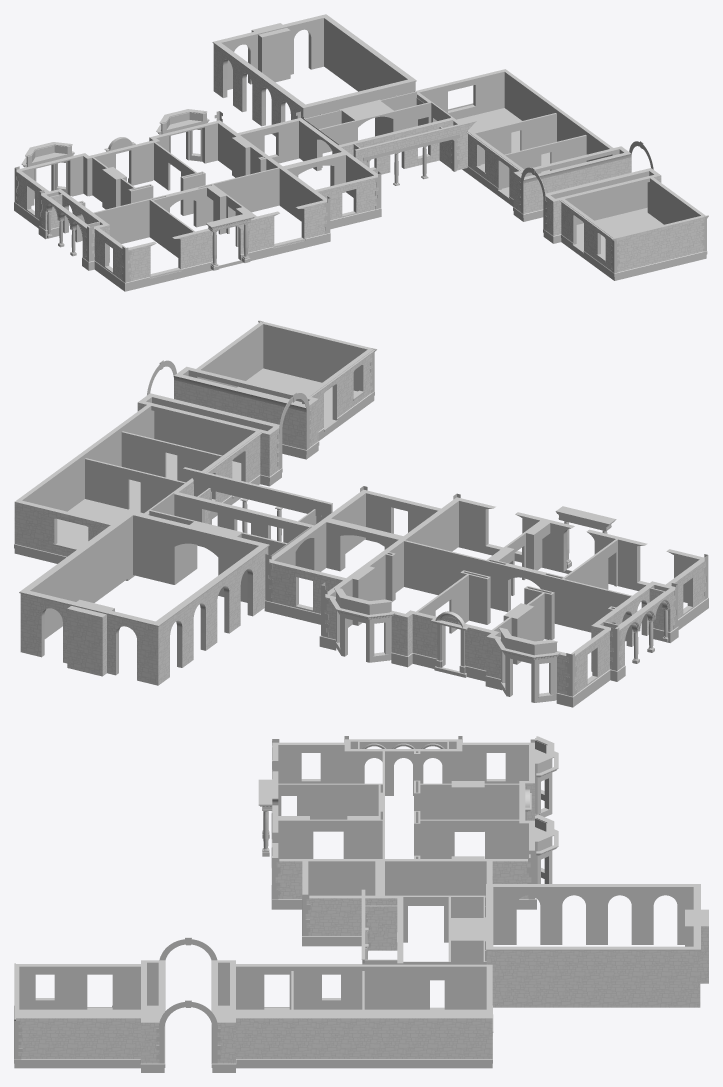
The model's file is RB05__Storey__GroundFloor__ProposedWalls__MeshModel__.glb.
The picture shows the model from 3 angles, top to bottom: view 1: azimuth 30°, elevation 25°; view 2: azimuth 150°, elevation 25°; view 3: azimuth 270°, elevation 25°; orthographic projection. The views are drawn at different scales.
Parts seen in each view (by area): view 1: 21__ProposedBuilding__Walls::Default, 21__ProposedBuilding__Walls::MAT000E__Masonry__StoneworkPatt; view 2: 21__ProposedBuilding__Walls::Default, 21__ProposedBuilding__Walls::MAT000E__Masonry__StoneworkPatt; view 3: 21__ProposedBuilding__Walls::Default, 21__ProposedBuilding__Walls::MAT000E__Masonry__StoneworkPatt.
Part boxes in pixels (left/top/right/bottom): 21__ProposedBuilding__Walls::Default: left=14, top=14, right=708, bottom=291; 21__ProposedBuilding__Walls::MAT000E__Masonry__StoneworkPatt: left=16, top=30, right=704, bottom=281; 21__ProposedBuilding__Walls::Default: left=14, top=320, right=708, bottom=707; 21__ProposedBuilding__Walls::MAT000E__Masonry__StoneworkPatt: left=14, top=353, right=706, bottom=694; 21__ProposedBuilding__Walls::Default: left=14, top=736, right=708, bottom=1072; 21__ProposedBuilding__Walls::MAT000E__Masonry__StoneworkPatt: left=16, top=783, right=708, bottom=1063.
Size of the model in its own units: 42.28 by 5.05 by 43.94.
Materials: 2 (1 with a texture image).
